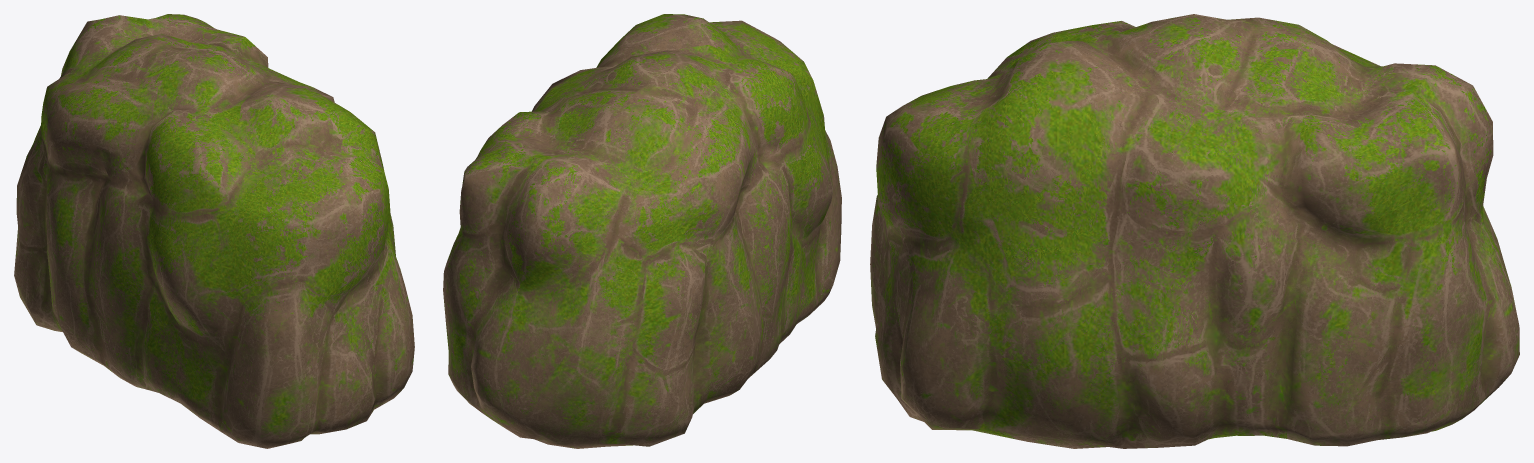
The model's file is EP1_rock03d.fbx.
3 views of the same model, side by side, from view 1: azimuth 30°, elevation 25°; view 2: azimuth 150°, elevation 25°; view 3: azimuth 270°, elevation 25° (orthographic). The views are drawn at different scales.
Parts seen in each view (by area): view 1: rock03d_low; view 2: rock03d_low; view 3: rock03d_low.
Part boxes in pixels (x1,y1,x2,y2): rock03d_low: (14,14,414,448); rock03d_low: (443,14,841,448); rock03d_low: (870,14,1519,448).
Bounding box in the file's own units: 3.23 × 3.52 × 5.46.
